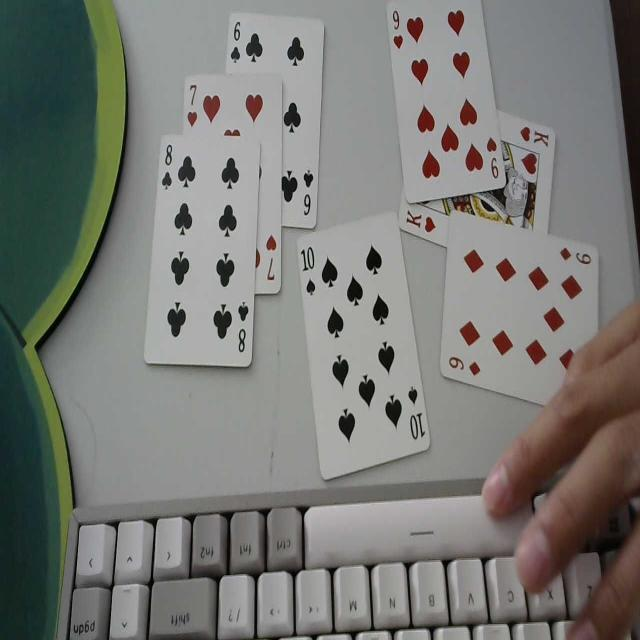10S: (406, 382, 428, 444), (299, 242, 319, 300)
6C: (300, 165, 316, 219), (229, 17, 243, 70)
7H: (264, 230, 278, 286), (186, 80, 198, 130)
8C: (236, 299, 250, 360), (160, 140, 174, 192)
9D: (445, 352, 483, 383), (558, 236, 594, 266)
9H: (485, 133, 501, 184), (388, 7, 404, 51)
KH: (403, 204, 439, 238), (518, 120, 550, 150)
